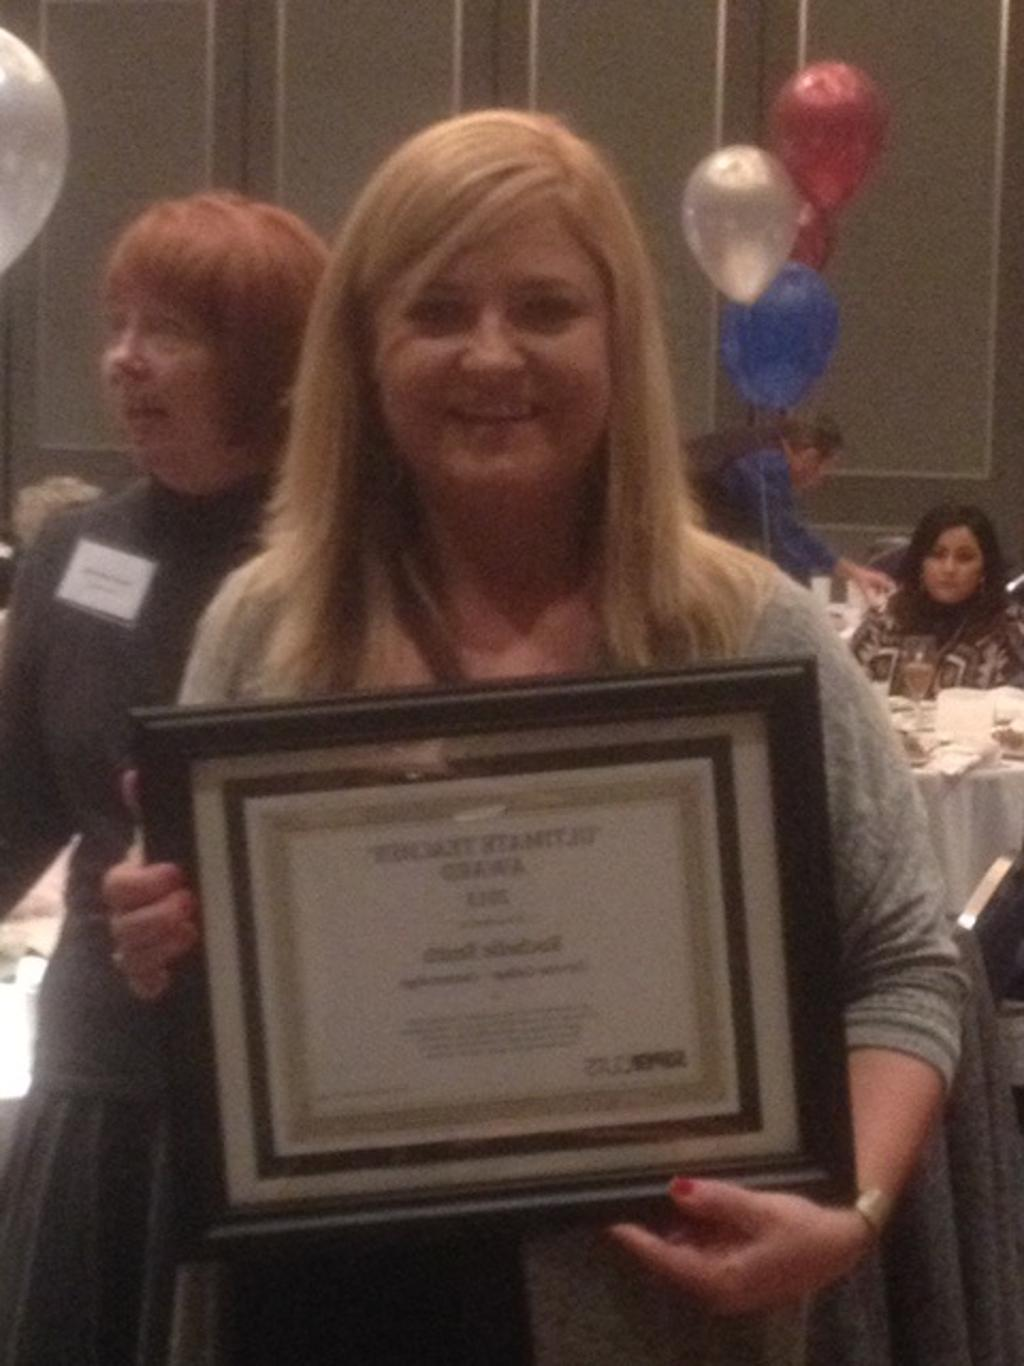face: (373, 168, 618, 507), (101, 224, 269, 461), (920, 517, 981, 602)
